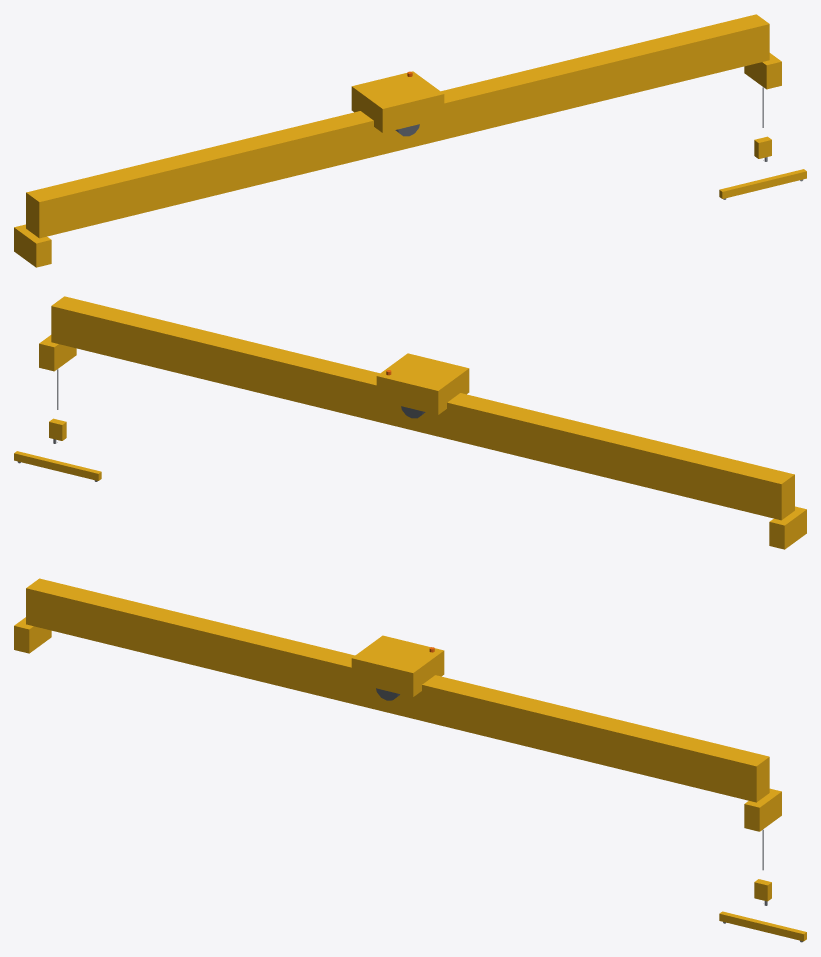
File: ENV_OverheadCrane.fbx
3 views of the same model, one above another, from view 1: azimuth 30°, elevation 25°; view 2: azimuth 150°, elevation 25°; view 3: azimuth 330°, elevation 25° (orthographic).
Visible parts, largest first — view 1: Crane_Bridge, Crane_Trolley, Crane_Runway_W, ENV_LiftingBeam, Crane_Runway_E; view 2: Crane_Bridge, Crane_Trolley, Crane_Runway_W, ENV_LiftingBeam, Crane_Runway_E; view 3: Crane_Bridge, Crane_Trolley, Crane_Runway_E, ENV_LiftingBeam, Crane_Runway_W.
Boxes of the visible parts, x1,y1,x2,y2 form: Crane_Bridge: (26, 14, 769, 238); Crane_Trolley: (351, 71, 444, 132); Crane_Runway_W: (14, 224, 51, 267); ENV_LiftingBeam: (719, 169, 806, 198); Crane_Runway_E: (744, 53, 781, 89); Crane_Bridge: (51, 296, 794, 520); Crane_Trolley: (376, 353, 469, 414); Crane_Runway_W: (769, 506, 806, 549); ENV_LiftingBeam: (14, 451, 101, 480); Crane_Runway_E: (39, 335, 76, 371); Crane_Bridge: (26, 578, 769, 802); Crane_Trolley: (351, 635, 444, 697); Crane_Runway_E: (744, 788, 781, 831); ENV_LiftingBeam: (719, 911, 806, 941); Crane_Runway_W: (14, 617, 51, 653).
Size of the model in its own units: 20.3 by 4.8 by 1.4.
3 materials, 3 textured.
